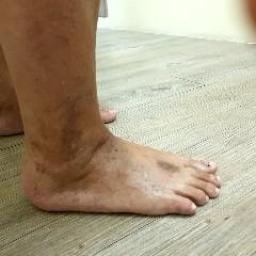Lateral View -Right Foot-: (9, 86, 243, 240)
